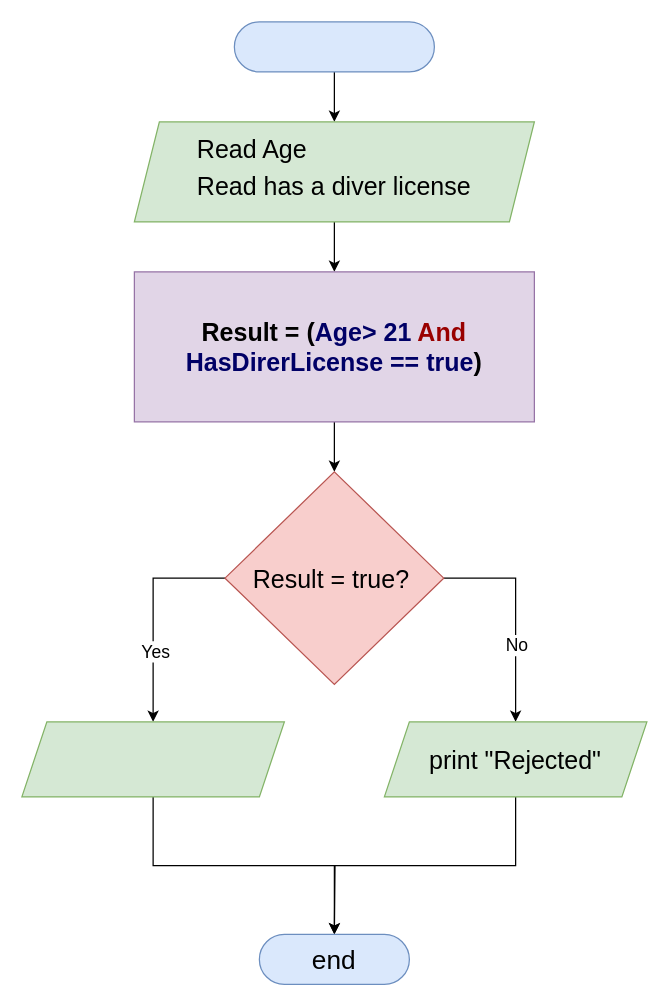
The diagram is 669 pixels wide and 1006 high, and some of its shapes have lost their labels. The shapes that lost their labels are listed below. From the top down, each one's box as (x1, y1, x2, y2) in pixels, then its label:
(233, 21, 434, 72): start
(21, 721, 284, 797): print "hired"
